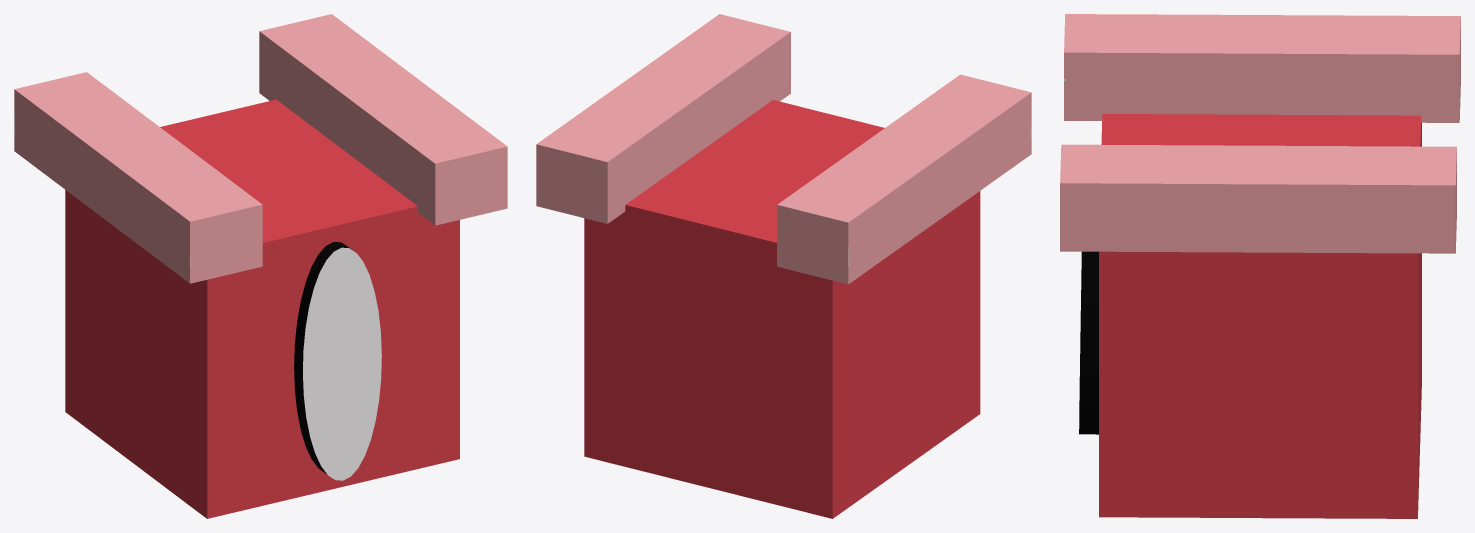
The model's file is boss.obj.
3 views of the same model, side by side, from view 1: azimuth 30°, elevation 25°; view 2: azimuth 150°, elevation 25°; view 3: azimuth 270°, elevation 25° (orthographic). The views are drawn at different scales.
Visible parts, largest first — view 1: 円柱; view 2: 円柱; view 3: 円柱.
Boxes of the visible parts, bbox=[...] form: 円柱: bbox=[14, 14, 507, 518]; 円柱: bbox=[536, 14, 1031, 518]; 円柱: bbox=[1060, 14, 1460, 518].
Size of the model in its own units: 2.54 by 2.42 by 2.51.
1 material, 1 textured.
